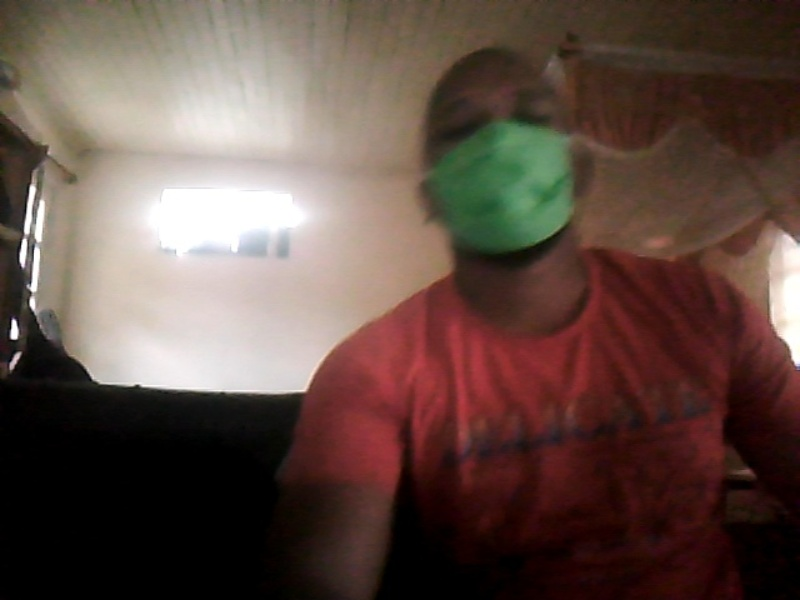ManaoArotava: (407, 52, 620, 258)
